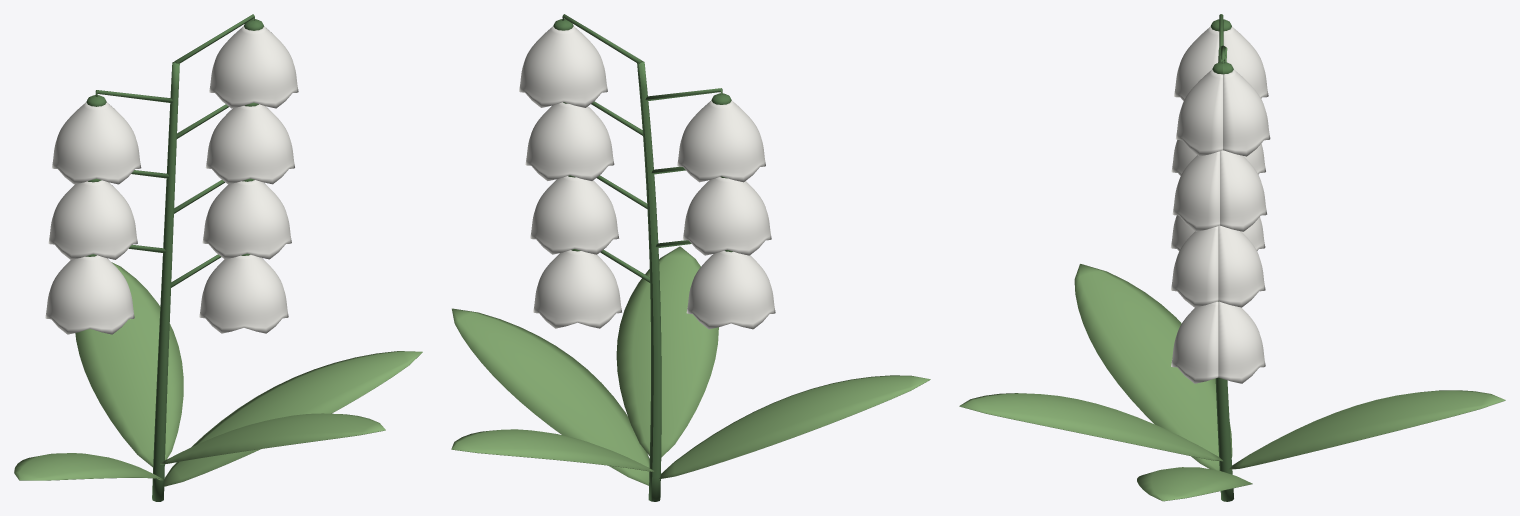
The model's file is lily-rare-v2.glb.
The picture shows the model from 3 angles, left to right: view 1: azimuth 30°, elevation 25°; view 2: azimuth 150°, elevation 25°; view 3: azimuth 270°, elevation 25°; orthographic projection. The views are drawn at different scales.
Visible parts, largest first — view 1: lily-rare-v2-petal, lily-rare-v2-leaf, lily-rare-v2-stem; view 2: lily-rare-v2-petal, lily-rare-v2-leaf, lily-rare-v2-stem; view 3: lily-rare-v2-leaf, lily-rare-v2-petal, lily-rare-v2-stem.
Boxes of the visible parts, box(x1,y1,x2,y2) form: lily-rare-v2-petal: box(45, 26, 298, 334); lily-rare-v2-leaf: box(14, 262, 422, 486); lily-rare-v2-stem: box(85, 14, 263, 501); lily-rare-v2-petal: box(519, 26, 775, 329); lily-rare-v2-leaf: box(451, 246, 930, 485); lily-rare-v2-stem: box(553, 14, 732, 501); lily-rare-v2-leaf: box(959, 264, 1505, 501); lily-rare-v2-petal: box(1170, 26, 1270, 383); lily-rare-v2-stem: box(1210, 14, 1233, 501).
Size of the model in its own units: 1.41 by 1.41 by 1.43.
